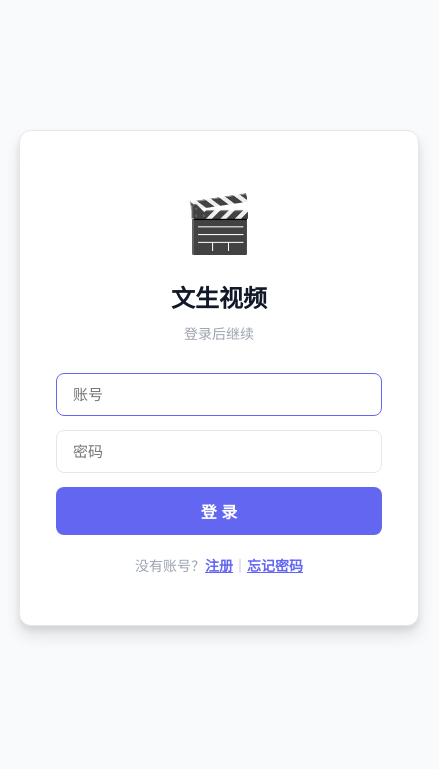
Scenario: 模式切换 › 切换到注册模式
Click the button "注册" at (219, 565), box x1=205 y1=555 x2=233 y2=575
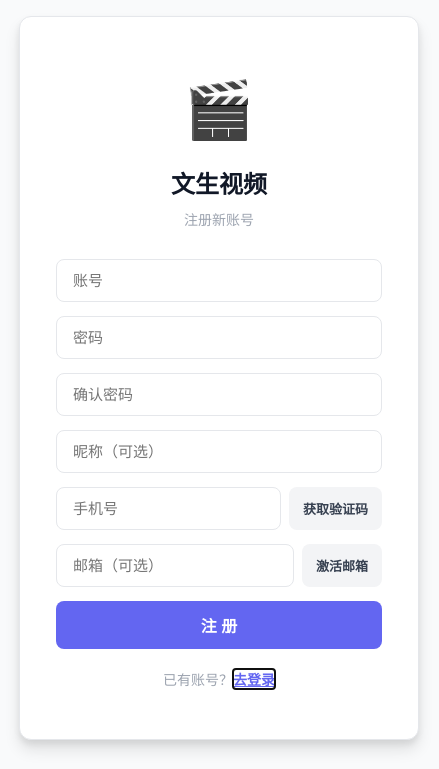
Expected: the text "注册新账号" is shown, x1=184 y1=211 x2=254 y2=228
Expected: the password field with placeholder "确认密码" is shown, x1=56 y1=373 x2=382 y2=416
